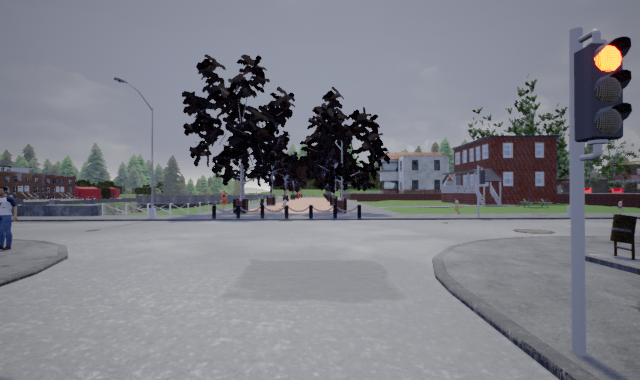pedestrian: (1, 184, 19, 252), (450, 195, 464, 214), (278, 195, 291, 213), (613, 197, 627, 213), (219, 189, 228, 209)
